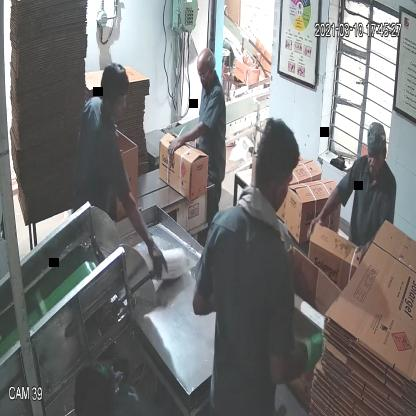no_glove: (118, 169, 170, 289), (299, 176, 346, 242), (164, 122, 209, 158)
